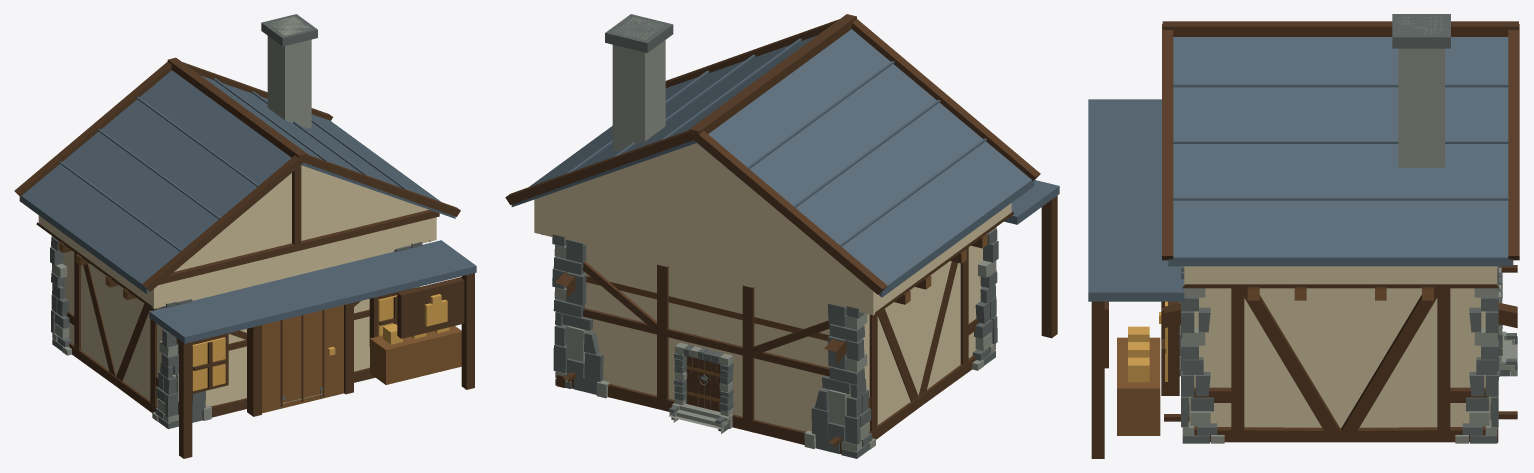
File: item_shop.glb
The picture shows the model from 3 angles, left to right: view 1: azimuth 30°, elevation 25°; view 2: azimuth 150°, elevation 25°; view 3: azimuth 270°, elevation 25°; orthographic projection. The views are drawn at different scales.
Parts seen in each view (by area): view 1: item_shop; view 2: item_shop; view 3: item_shop.
Part boxes in pixels (x1,y1,x2,y2): item_shop: [14, 14, 476, 458]; item_shop: [505, 14, 1059, 458]; item_shop: [1088, 14, 1519, 458].
Bounding box in the file's own units: 8 × 7 × 7.
